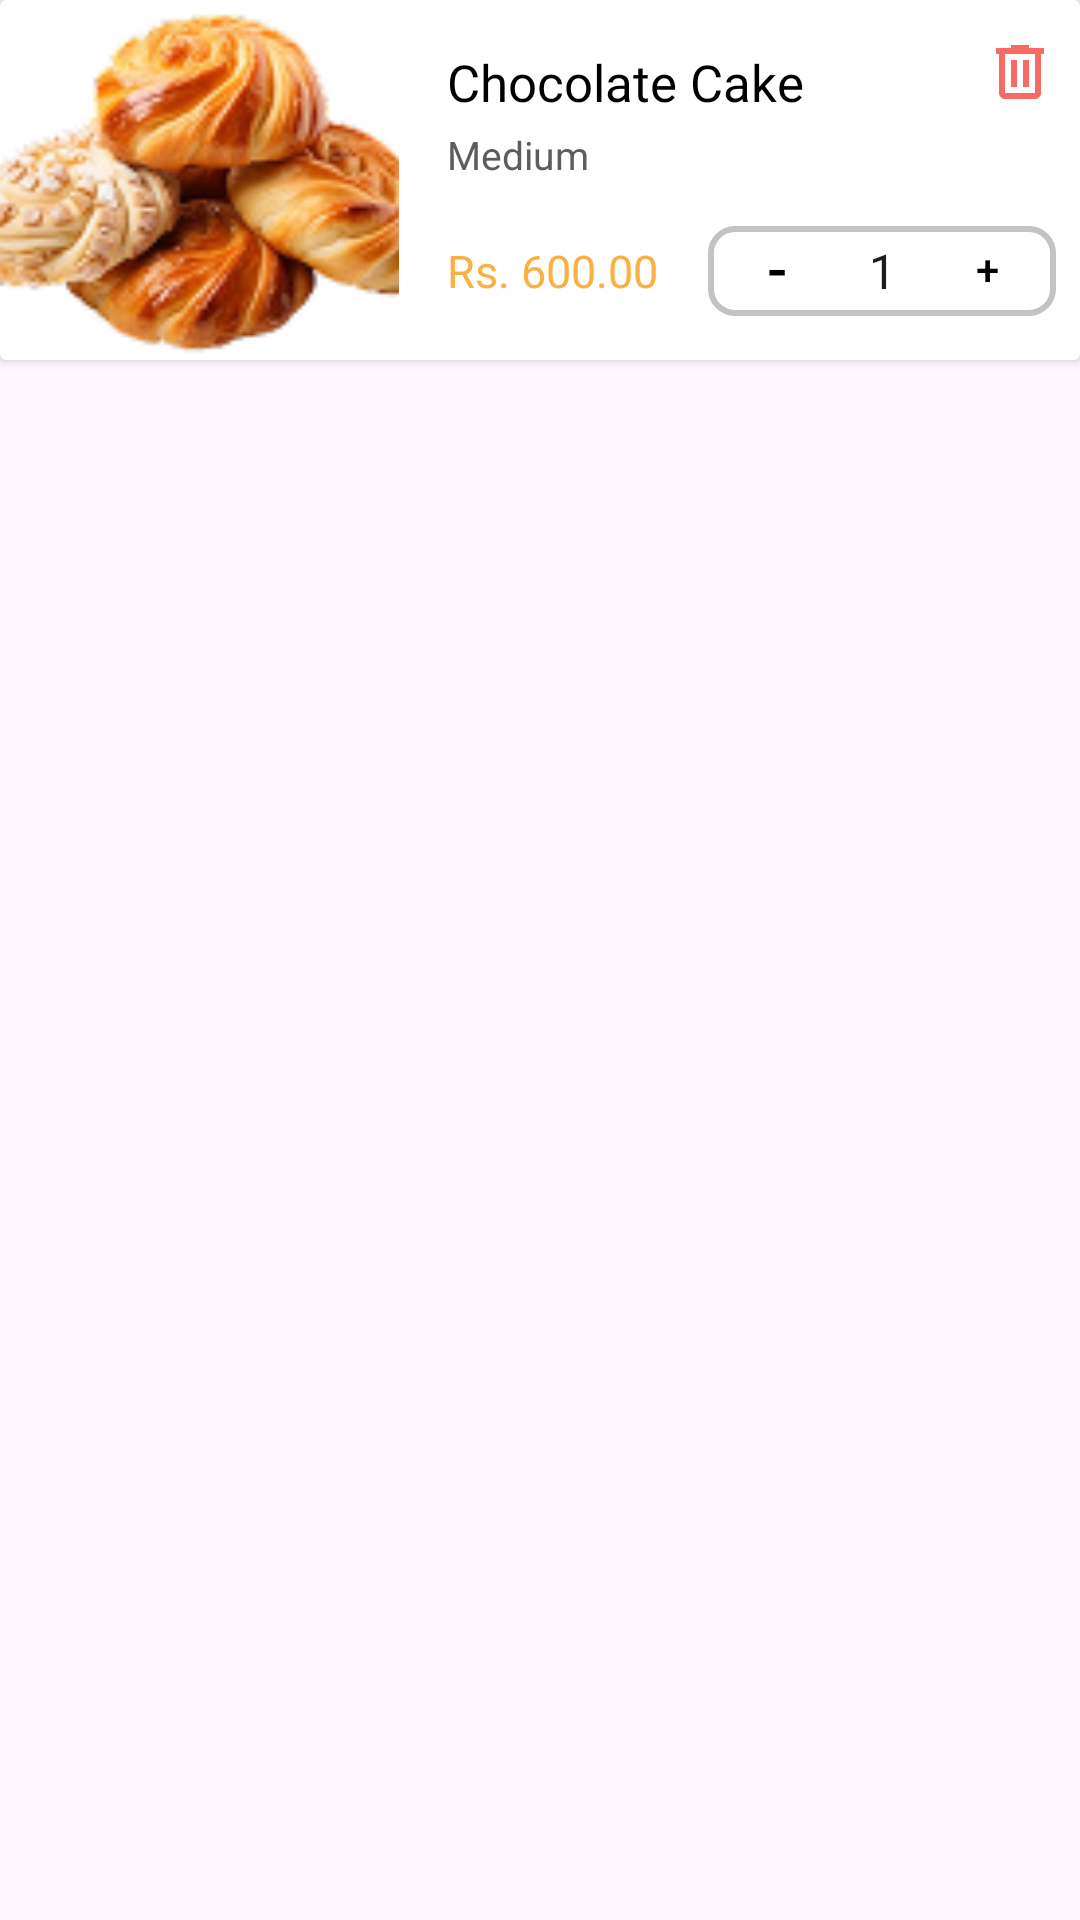

Icon click points for this 1080x1920 phone screenshot, format (x=x, y=y):
delete: (x=1020, y=72)
